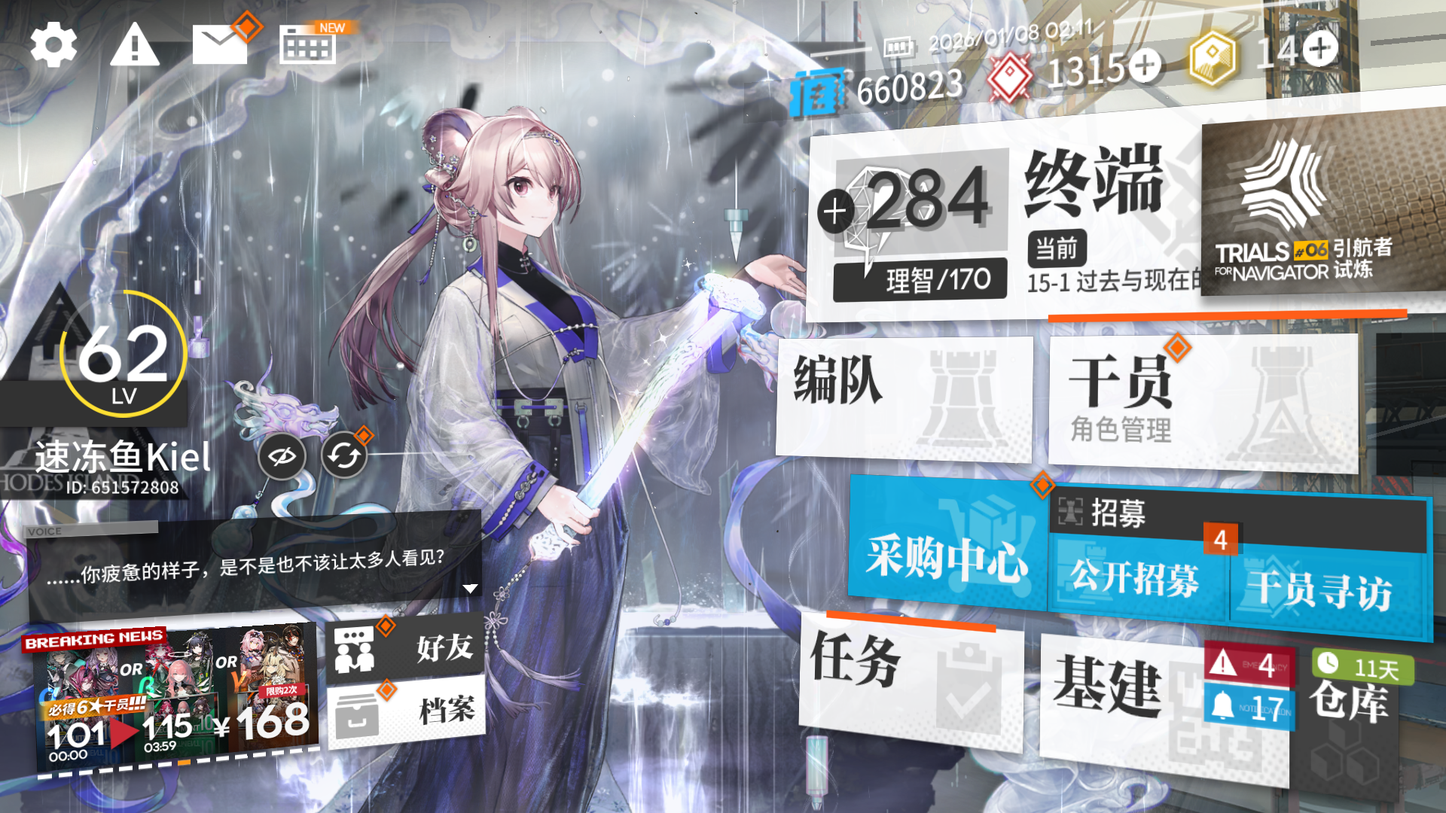home_button: (1022, 142, 1206, 238)
infrastructure_button: (1045, 635, 1273, 763)
